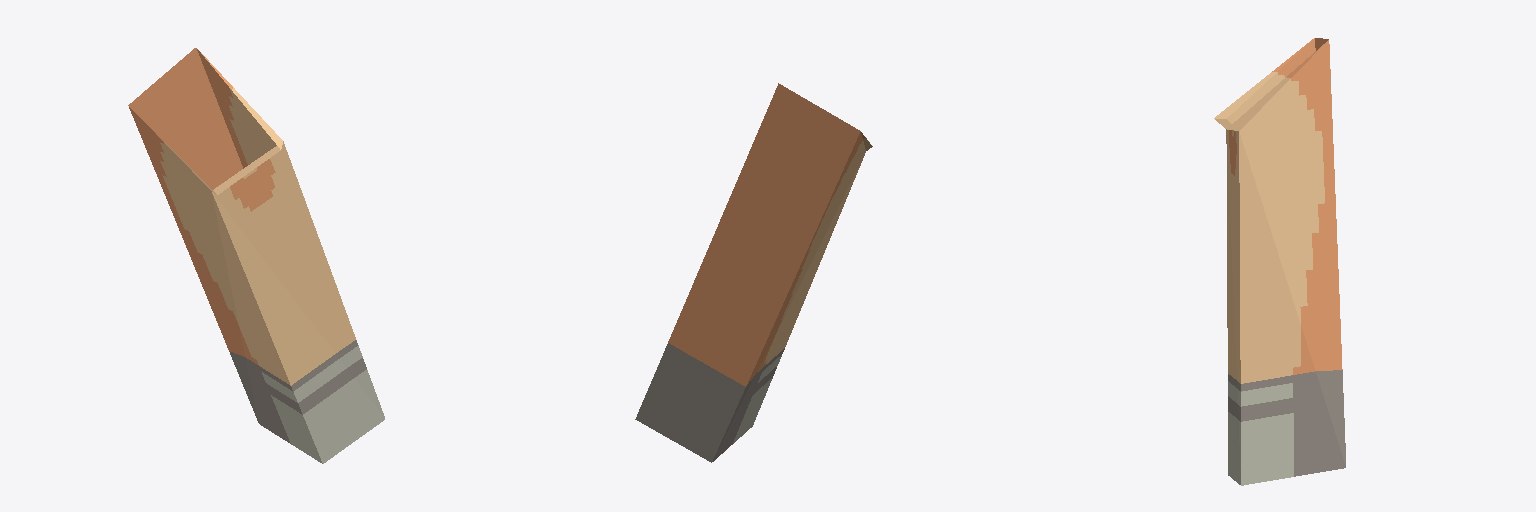
3 views of the same model, side by side, from view 1: azimuth 30°, elevation 25°; view 2: azimuth 150°, elevation 25°; view 3: azimuth 270°, elevation 25° (orthographic).
Parts seen in each view (by area): view 1: LeftLeg_Legs.002; view 2: LeftLeg_Legs.002; view 3: LeftLeg_Legs.002.
Part boxes in pixels (x1,y1,x2,y2): LeftLeg_Legs.002: (128,48,384,463); LeftLeg_Legs.002: (635,83,872,462); LeftLeg_Legs.002: (1214,38,1345,485).
Size of the model in its own units: 0.9074 by 1.57 by 0.4736.
1 materials, 1 textured.